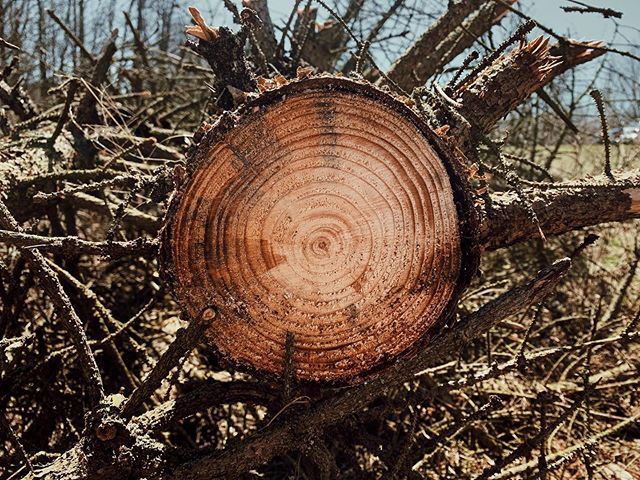tree trunk: (97, 22, 499, 443)
